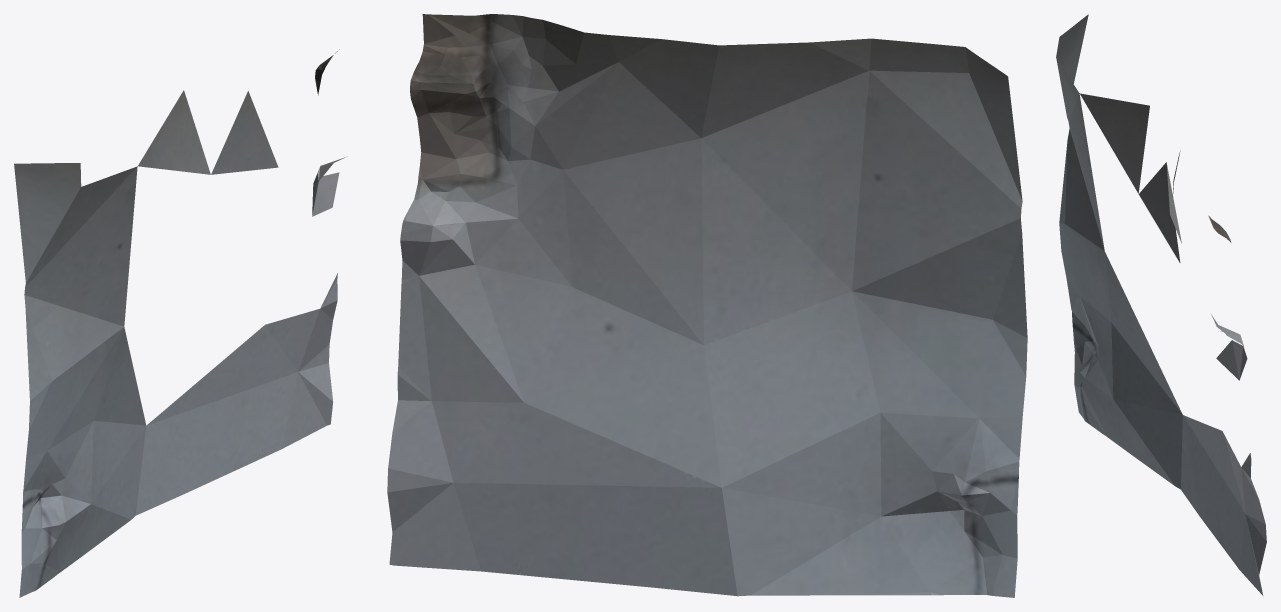
3 views of the same model, side by side, from view 1: azimuth 30°, elevation 25°; view 2: azimuth 150°, elevation 25°; view 3: azimuth 270°, elevation 25° (orthographic). The views are drawn at different scales.
Bounding box in the file's own units: 0.8374 × 0.8374 × 0.4018.
3 materials, 3 textured.
